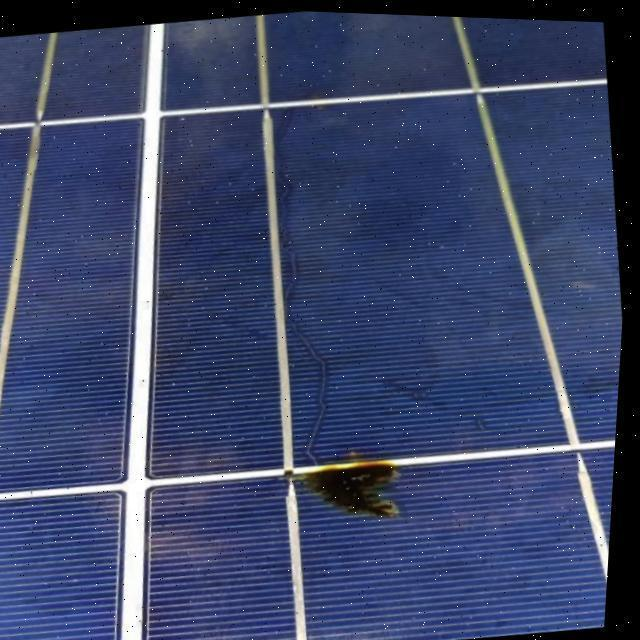Anomaly Solar Panel: (0, 9, 626, 640)
Structural Damage: (264, 161, 349, 464), (298, 450, 428, 540), (382, 362, 458, 416)
